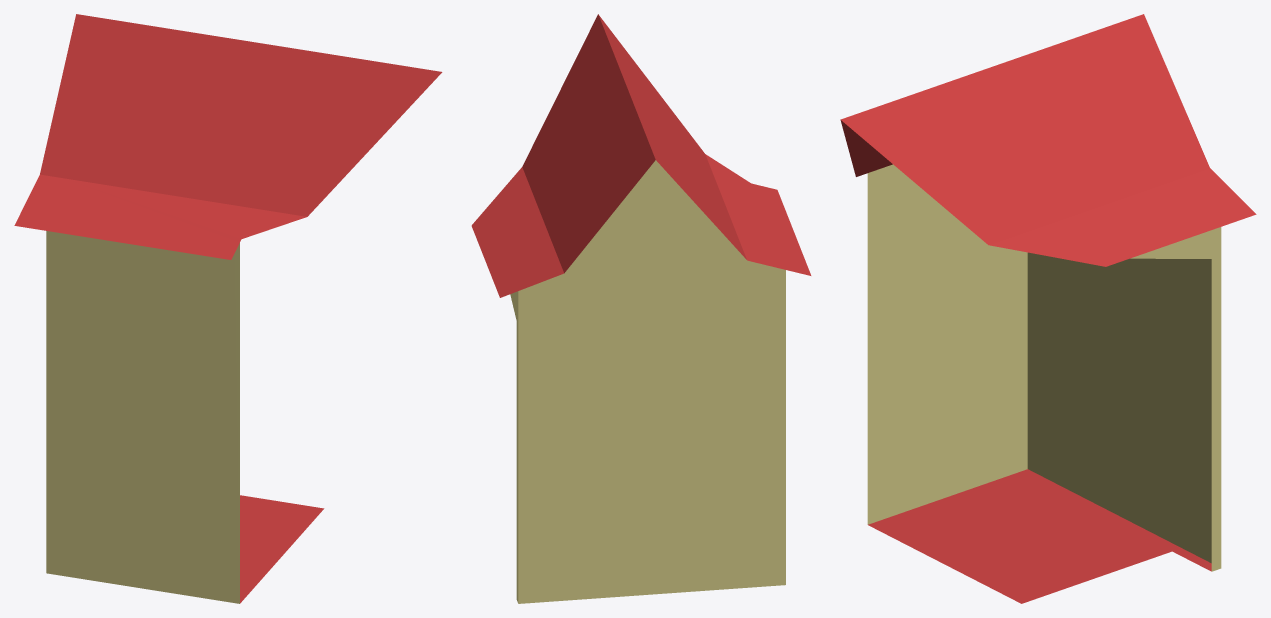
The picture shows the model from 3 angles, left to right: view 1: azimuth 30°, elevation 25°; view 2: azimuth 150°, elevation 25°; view 3: azimuth 270°, elevation 25°; orthographic projection. The views are drawn at different scales.
Size of the model in its own units: 8.01 by 8.34 by 11.01.
